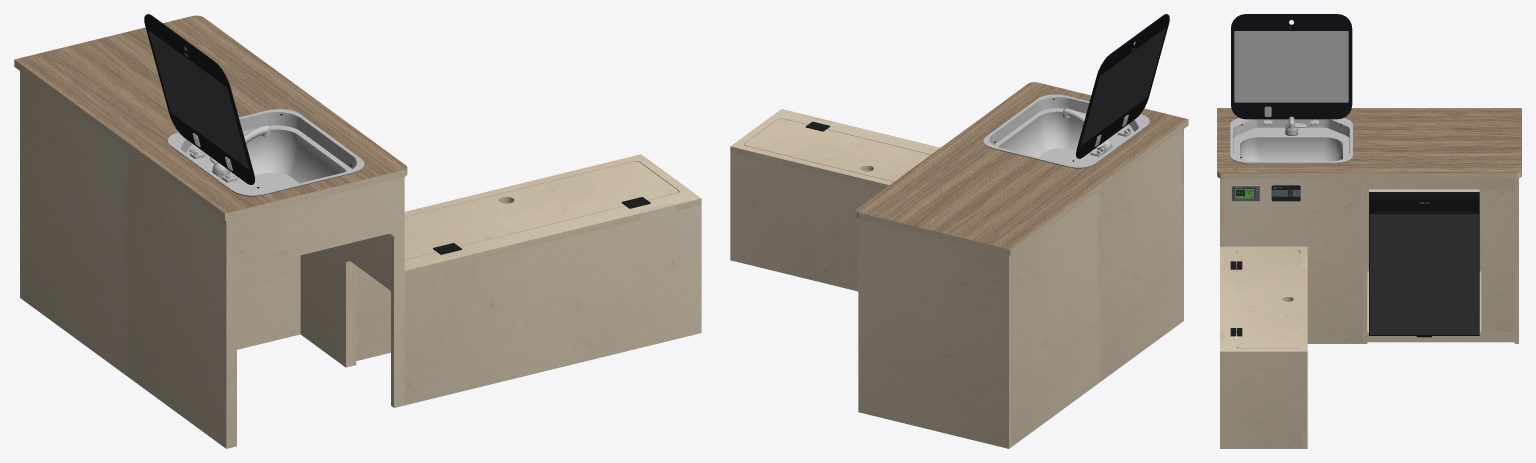
The model's file is front-module-rear-114-birch.glb.
3 views of the same model, side by side, from view 1: azimuth 30°, elevation 25°; view 2: azimuth 150°, elevation 25°; view 3: azimuth 270°, elevation 25° (orthographic). The views are drawn at different scales.
Visible parts, largest first — view 1: Forward end panel -15mm with top tenons_1, ボディ61_0, Back panel - 15mm with tenons_0.002, Back panel - 15mm with tenons_0.001, Forward end panel -15mm with top tenons_1.001, ボディ56_1, Stainless basin with rear faucet ledge_0, Front panel - 15mm with tenons_1.001, Gray ceramic printed field approximation_0, Forward end panel -15mm with top tenons_1.002, ボディ57_1, Black safety glass_0 (+4 smaller); view 2: Rearward end panel -15mm with top tenons_1.001, ボディ61_0, Back panel - 15mm with tenons_0.002, Back panel - 15mm with tenons_0.001, Rearward end panel -15mm with top tenons_1, Stainless basin with rear faucet ledge_0, ボディ56_1, Gray ceramic printed field approximation_0, ボディ57_1, Black safety glass_0, ボディ57_0, Forward end panel -15mm with top tenons_0.002; view 3: ボディ61_0, Front panel - 15mm with tenons_1.001, Dark gray frameless face_0, ボディ15 (1)_0, Front panel - 15mm with tenons_0, ボディ56_1, Stainless basin with rear faucet ledge_0, Rear extension removable infill - 114x540x15mm_1, Black safety glass_0, ボディ57_1, Door black surround with full-width recessed handle_0, ボディ53_1 (+10 smaller).
Boxes of the visible parts, x1,y1,x2,y2 form: Forward end panel -15mm with top tenons_1: (404, 205, 701, 405); ボディ61_0: (14, 15, 407, 220); Back panel - 15mm with tenons_0.002: (21, 73, 126, 373); Back panel - 15mm with tenons_0.001: (127, 150, 225, 446); Forward end panel -15mm with top tenons_1.001: (226, 177, 404, 448); ボディ56_1: (404, 161, 678, 259); Stainless basin with rear faucet ledge_0: (167, 109, 364, 195); Front panel - 15mm with tenons_1.001: (300, 234, 390, 367); Gray ceramic printed field approximation_0: (148, 30, 249, 169); Forward end panel -15mm with top tenons_1.002: (237, 255, 300, 349); ボディ57_1: (404, 154, 701, 270); Black safety glass_0: (144, 14, 254, 184); Rearward end panel -15mm with top tenons_1.001: (858, 219, 1008, 448); ボディ61_0: (856, 82, 1188, 255); Back panel - 15mm with tenons_0.002: (1010, 192, 1099, 446); Back panel - 15mm with tenons_0.001: (1100, 131, 1182, 381); Rearward end panel -15mm with top tenons_1: (730, 152, 883, 291); Stainless basin with rear faucet ledge_0: (983, 94, 1149, 167); ボディ56_1: (745, 118, 930, 181); Gray ceramic printed field approximation_0: (1081, 28, 1166, 145); ボディ57_1: (730, 109, 939, 184); Black safety glass_0: (1076, 14, 1169, 158); ボディ57_0: (730, 118, 930, 189); Forward end panel -15mm with top tenons_0.002: (1097, 190, 1100, 383); ボディ61_0: (1217, 108, 1521, 178); Front panel - 15mm with tenons_1.001: (1221, 178, 1362, 343); Dark gray frameless face_0: (1369, 214, 1478, 334); ボディ15 (1)_0: (1234, 31, 1348, 102); Front panel - 15mm with tenons_0: (1221, 356, 1305, 448); ボディ56_1: (1236, 250, 1299, 348); Stainless basin with rear faucet ledge_0: (1230, 118, 1352, 163); Rear extension removable infill - 114x540x15mm_1: (1481, 189, 1514, 332); Black safety glass_0: (1231, 14, 1352, 119); ボディ57_1: (1220, 246, 1307, 351); Door black surround with full-width recessed handle_0: (1369, 192, 1479, 335); ボディ53_1: (1367, 178, 1514, 189).
Size of the model in its own units: 1.37 by 1.02 by 1.04.
Materials: 30 (4 with a texture image).
